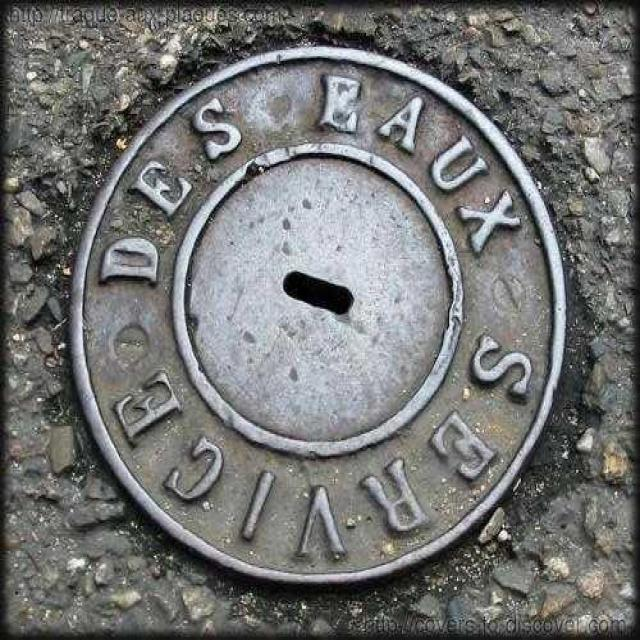manhole: (65, 44, 568, 595)
